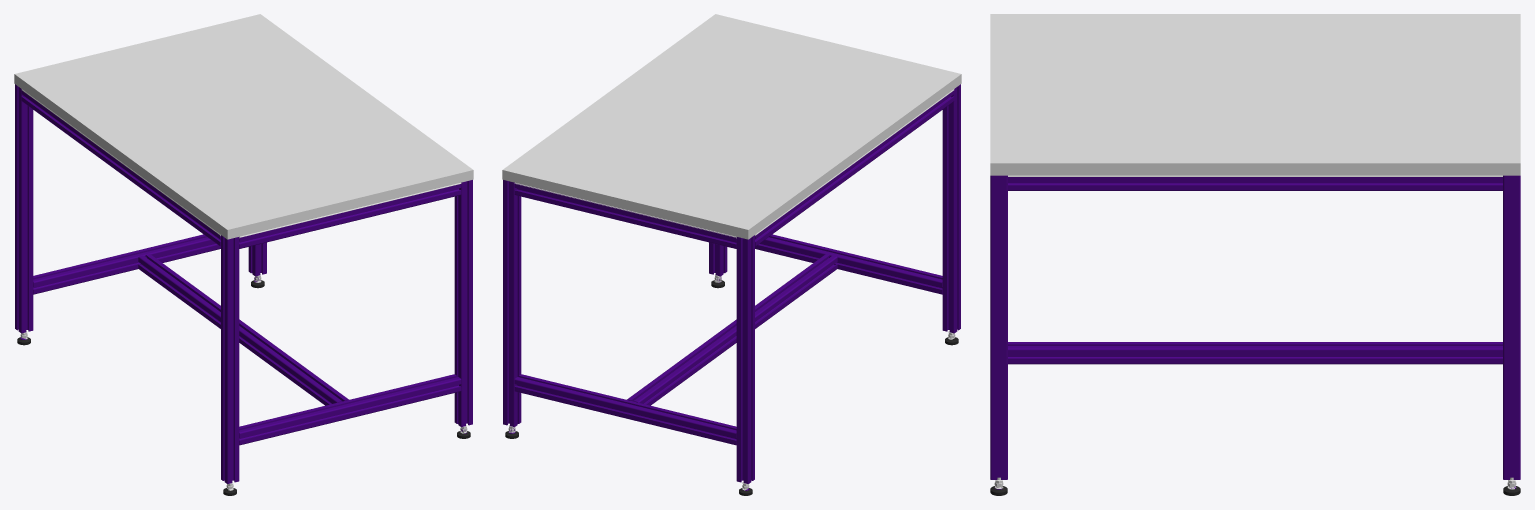
File: table1.dae
3 views of the same model, side by side, from view 1: azimuth 30°, elevation 25°; view 2: azimuth 150°, elevation 25°; view 3: azimuth 270°, elevation 25° (orthographic). The views are drawn at different scales.
Parts seen in each view (by area): view 1: Table1; view 2: Table1; view 3: Table1.
Part boxes in pixels (x1,y1,x2,y2): Table1: (14,14,473,495); Table1: (502,14,961,495); Table1: (990,14,1520,495).
Size of the model in its own units: 0.8 by 1.2 by 0.83.
